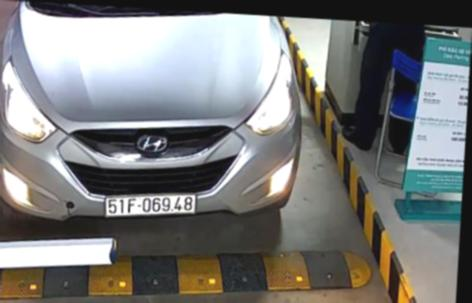License_Plate: (104, 192, 202, 223)
